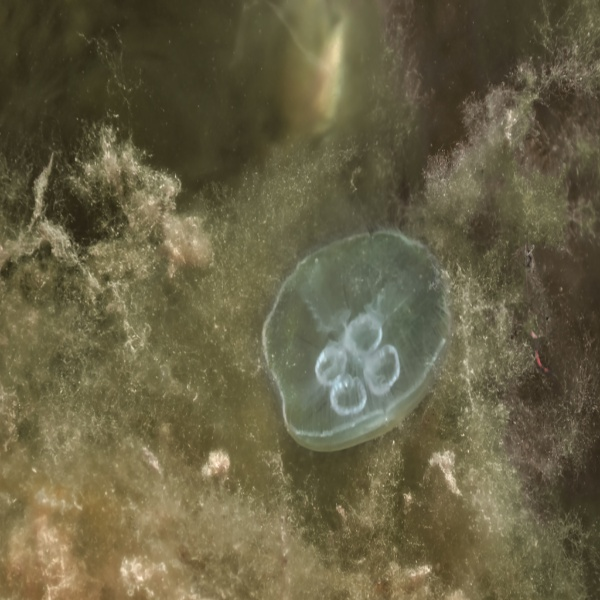Jellyfish: (257, 219, 455, 452), (258, 230, 452, 455)
